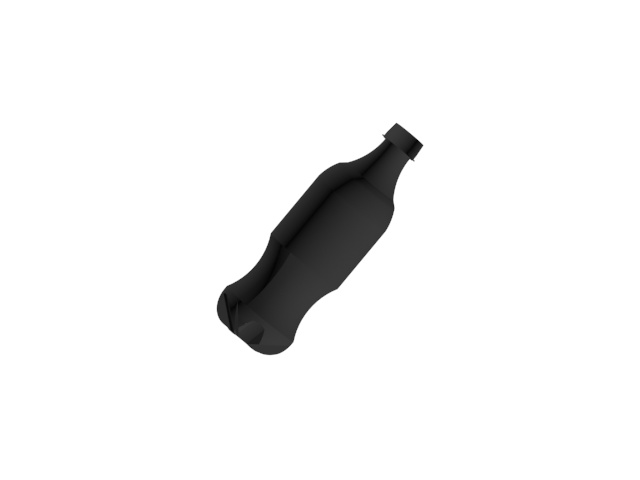bottle: (217, 121, 424, 360)
